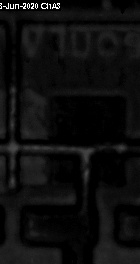led: (47, 96, 126, 186)
